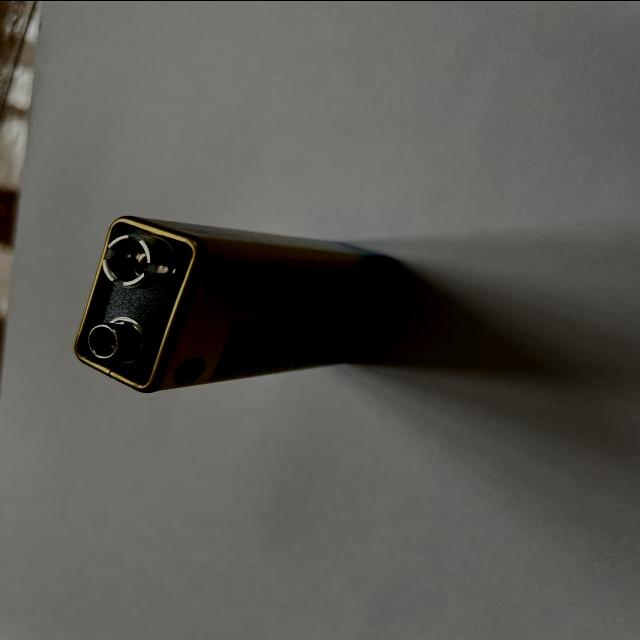9V: (74, 213, 398, 392)
